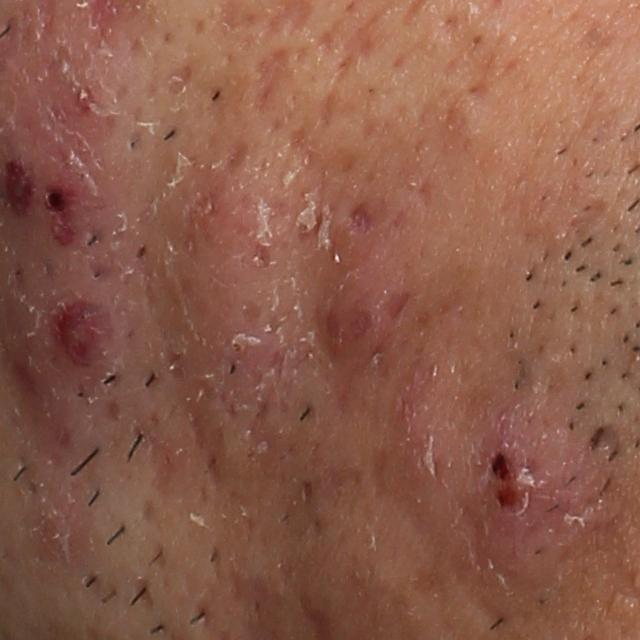atrophic_scar: (245, 44, 300, 118), (339, 9, 395, 80), (587, 420, 624, 464)
nodule: (166, 146, 300, 533)
